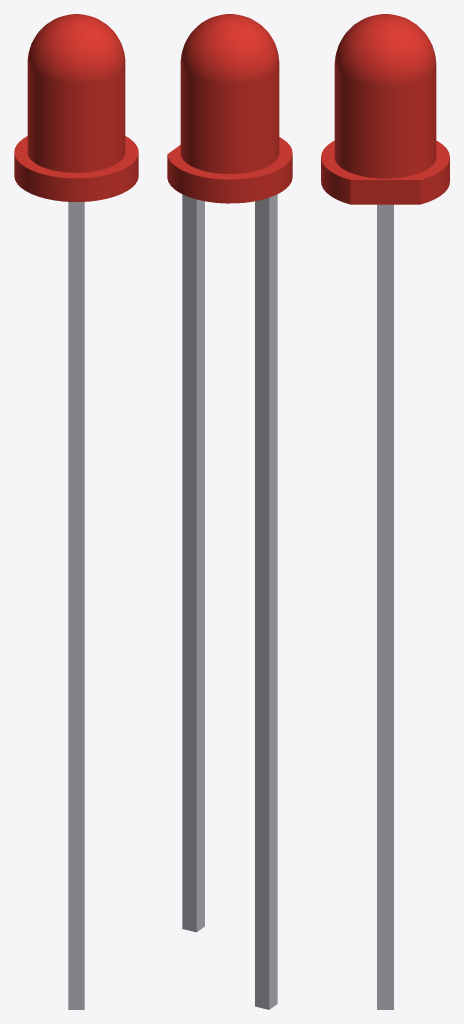
Rendered from led-3mm.glb.
3 views of the same model, side by side, from view 1: azimuth 90°, elevation 25°; view 2: azimuth 150°, elevation 25°; view 3: azimuth 270°, elevation 25° (orthographic). The views are drawn at different scales.
Parts seen in each view (by area): view 1: body, lead-1; view 2: body, lead-1, lead-2; view 3: body, lead-2, lead-1.
Boxes of the visible parts, box(x1,y1,x2,y2) form: body: box(14, 14, 138, 201); lead-1: box(68, 202, 84, 1009); body: box(167, 14, 292, 203); lead-1: box(255, 194, 277, 1009); lead-2: box(182, 194, 204, 932); body: box(321, 14, 449, 204); lead-2: box(377, 204, 393, 984); lead-1: box(377, 985, 393, 1009).
Bounding box in the file's own units: 0.00349 × 0.0327 × 0.0038.
